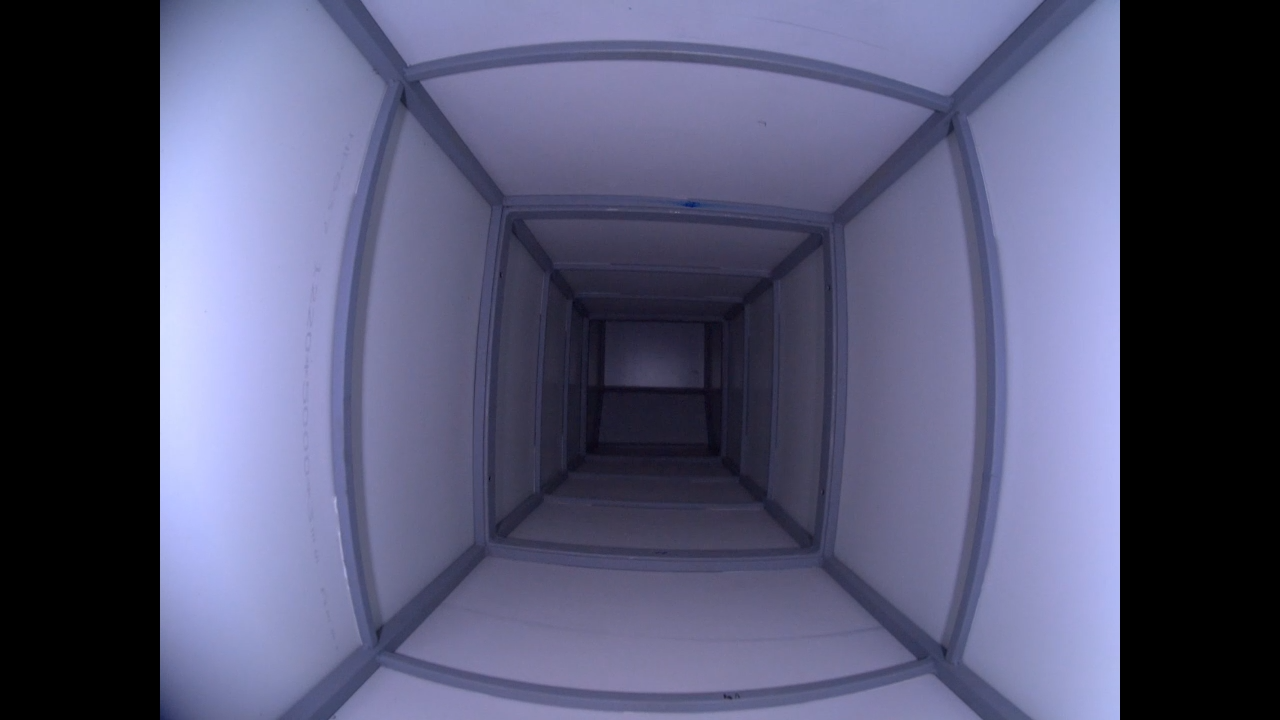divider: (319, 31, 1017, 719)
